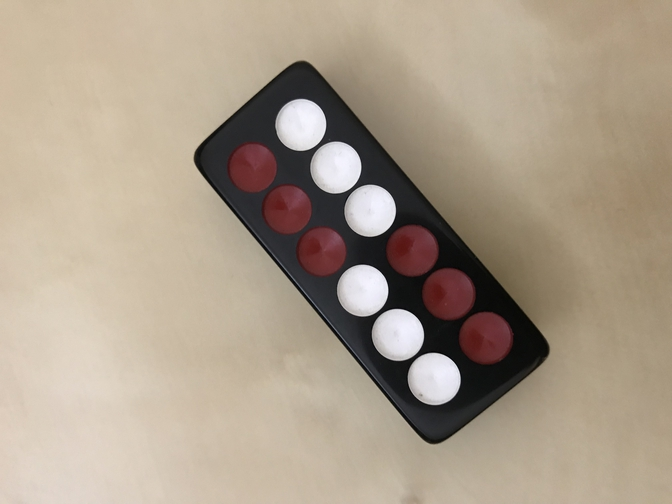heaven: (193, 59, 554, 447)
